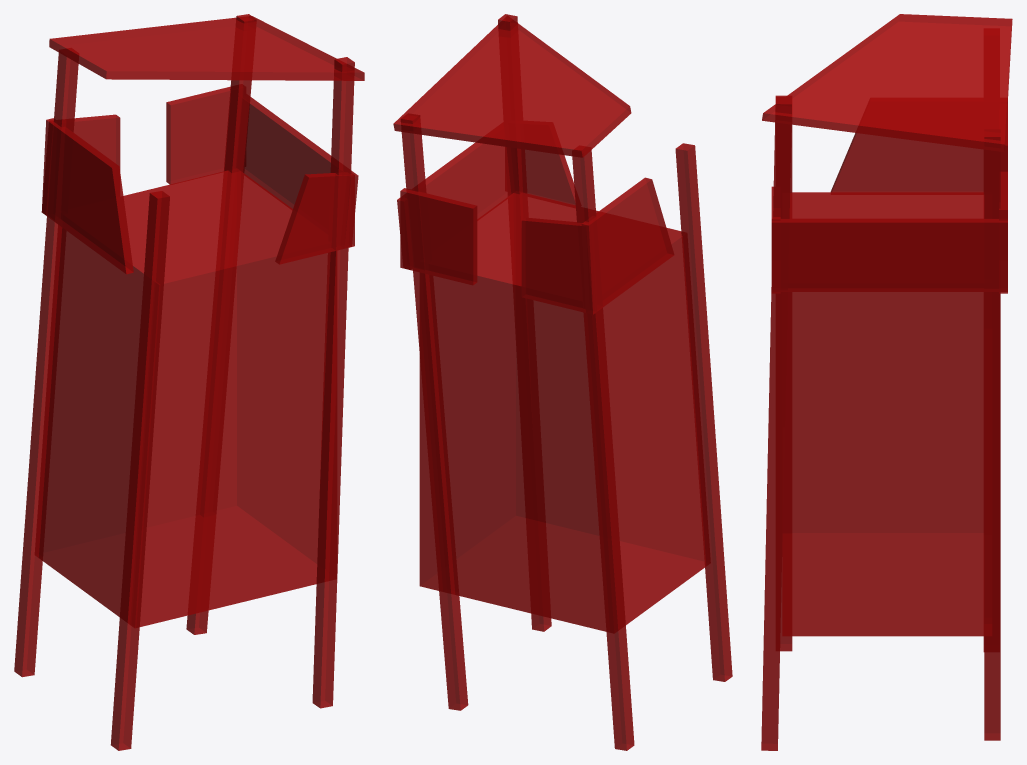
Rendered from SM_Bld_GuardTower_Destroyed_01_Collision.fbx.
3 renders of one model, left to right at view 1: azimuth 30°, elevation 25°; view 2: azimuth 150°, elevation 25°; view 3: azimuth 270°, elevation 25°, orthographic. The views are drawn at different scales.
Visible parts, largest first — view 1: SM_Bld_GuardTower_Destroyed_01_Collision; view 2: SM_Bld_GuardTower_Destroyed_01_Collision; view 3: SM_Bld_GuardTower_Destroyed_01_Collision.
Boxes of the visible parts, <box> form: SM_Bld_GuardTower_Destroyed_01_Collision: <box>14,14,364,750</box>; SM_Bld_GuardTower_Destroyed_01_Collision: <box>393,14,732,750</box>; SM_Bld_GuardTower_Destroyed_01_Collision: <box>761,14,1012,750</box>.
Bounding box in the file's own units: 352 × 875 × 301.
